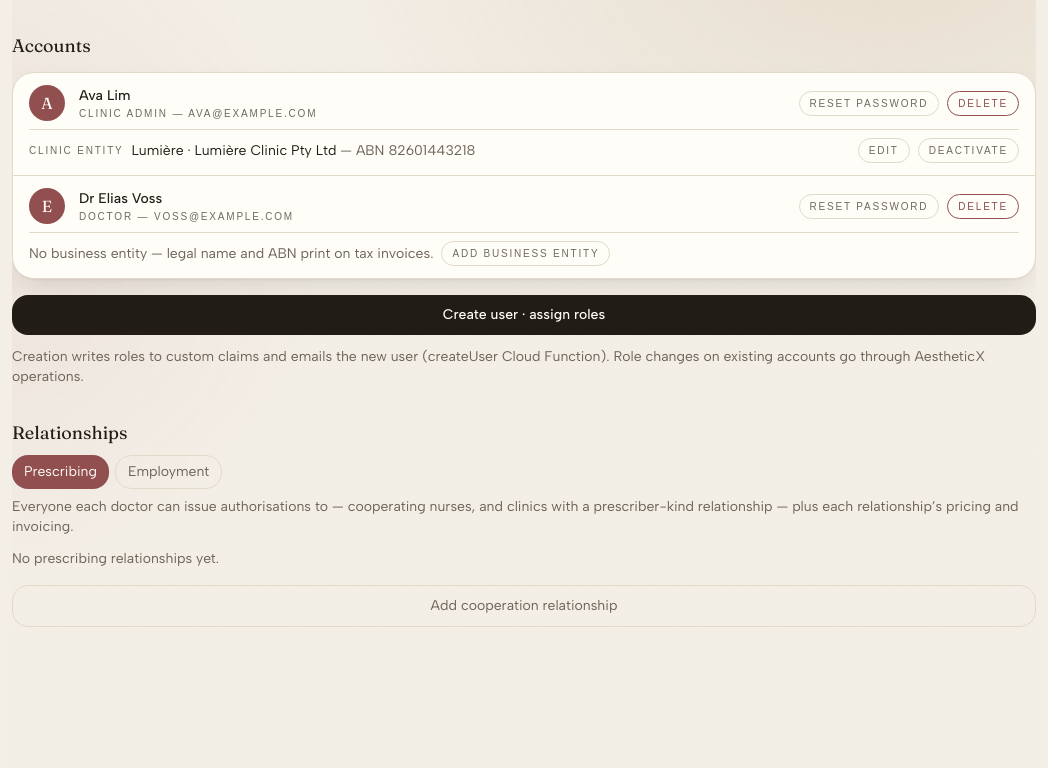
Test: AccountEntityLine › surfaces a failed activate/deactivate toggle on the row
Click the button "Deactivate".
click(968, 150)  # box 918,138 -> 1019,163
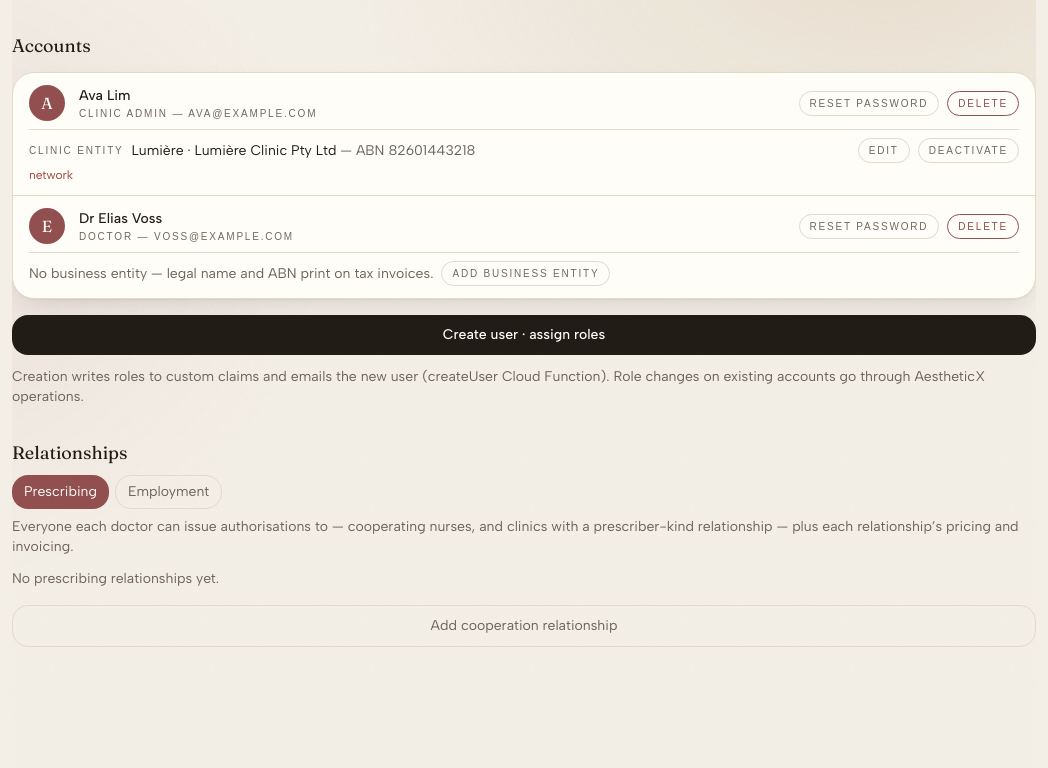
Now the text "network" is shown, box 29,168 -> 73,182
